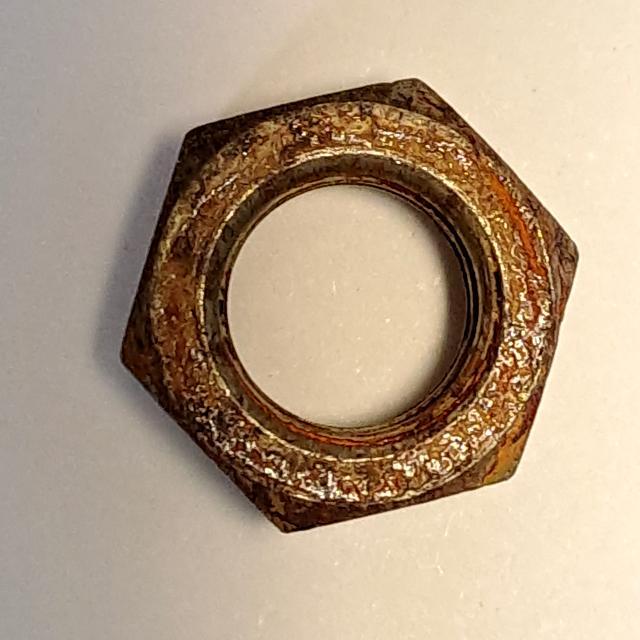Rust: (104, 62, 589, 547)
